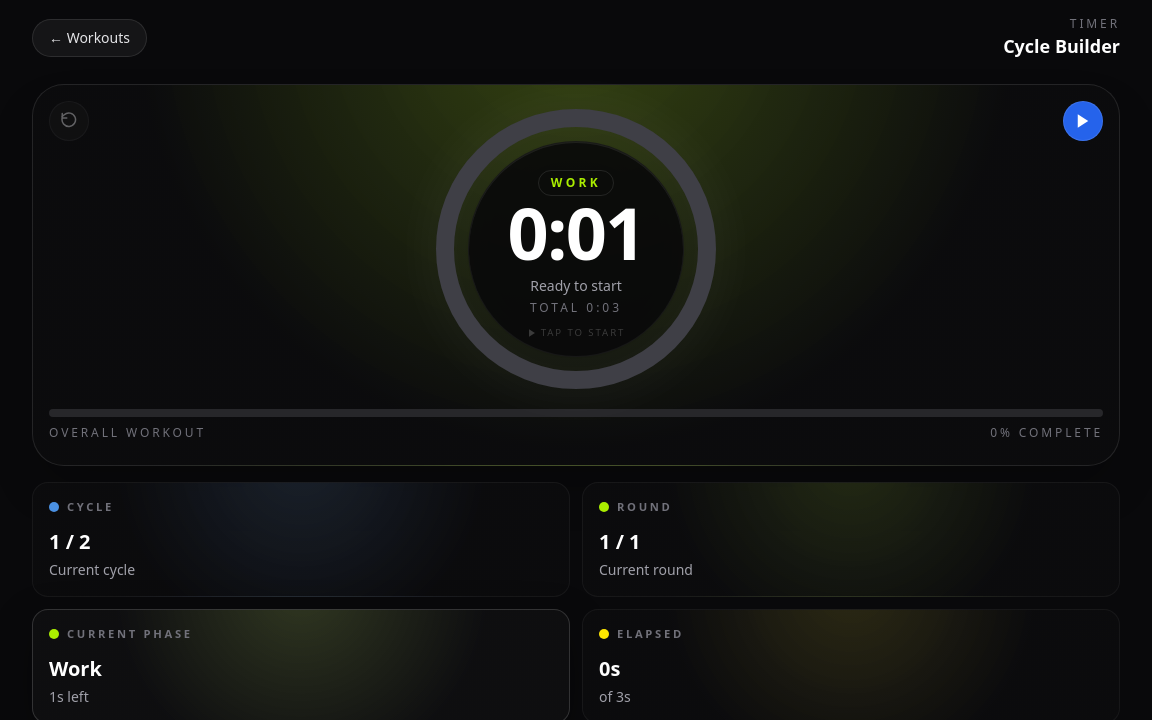
Test case: TimerPage › routes cycle rest transitions and countdown beeps through the timer page
Click the button named "Start": (1083, 121) [1063,101,1103,141]
Wait 1000 ms
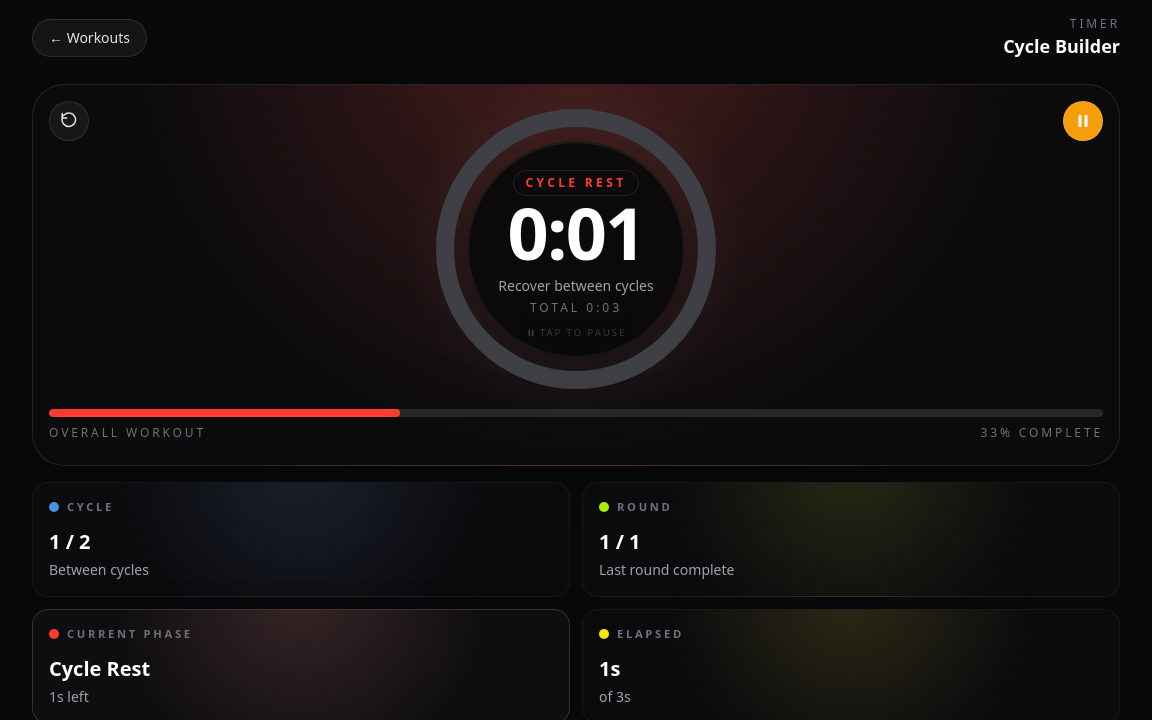
Check: the 1st text "Cycle Rest" is shown, box [512,170,640,196]
